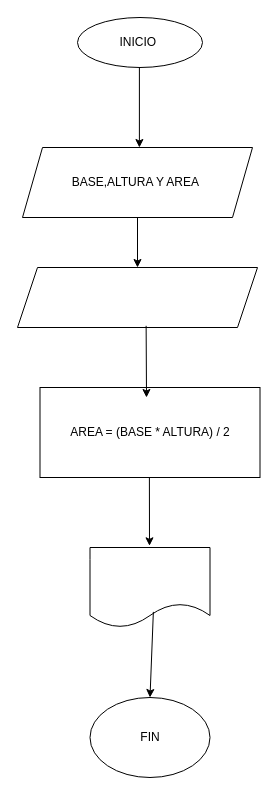
This 278x795 diagram has some shape labels left out. The centre of each missing label's shape, as x and y in pixels:
"AREA" goes at point (149, 587).
"INGRESE: BASE Y ALTURA DEL TRIANGULO" goes at point (137, 297).
